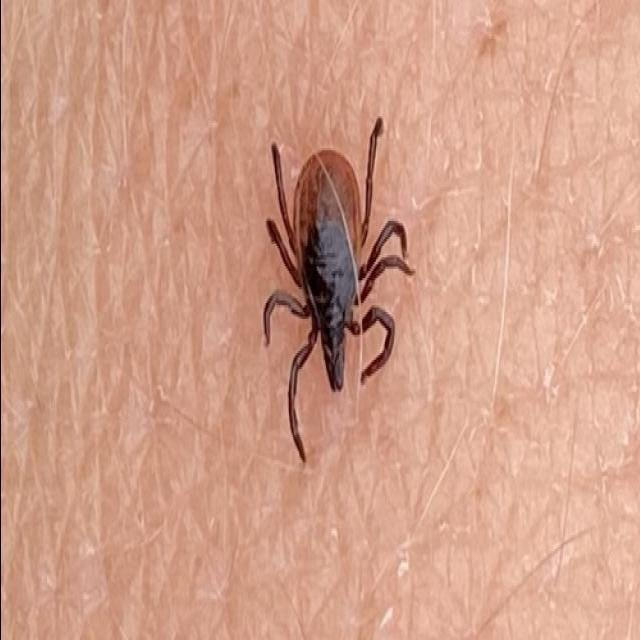Ixodes Ricinus-F: (262, 116, 412, 462)
